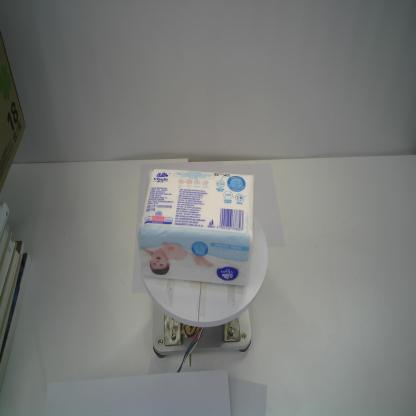Tissue: (137, 168, 256, 288)
